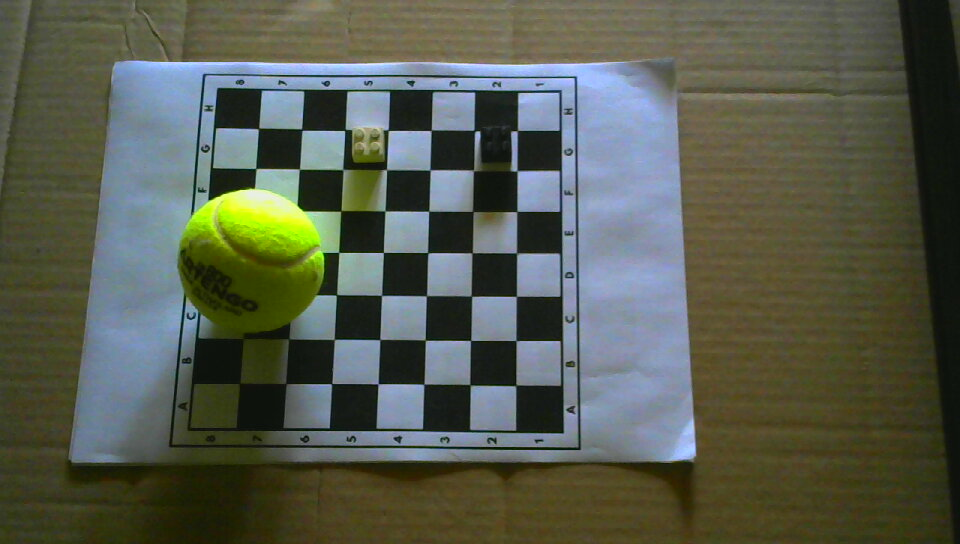bp: (479, 126, 514, 165)
wp: (350, 125, 386, 165)
